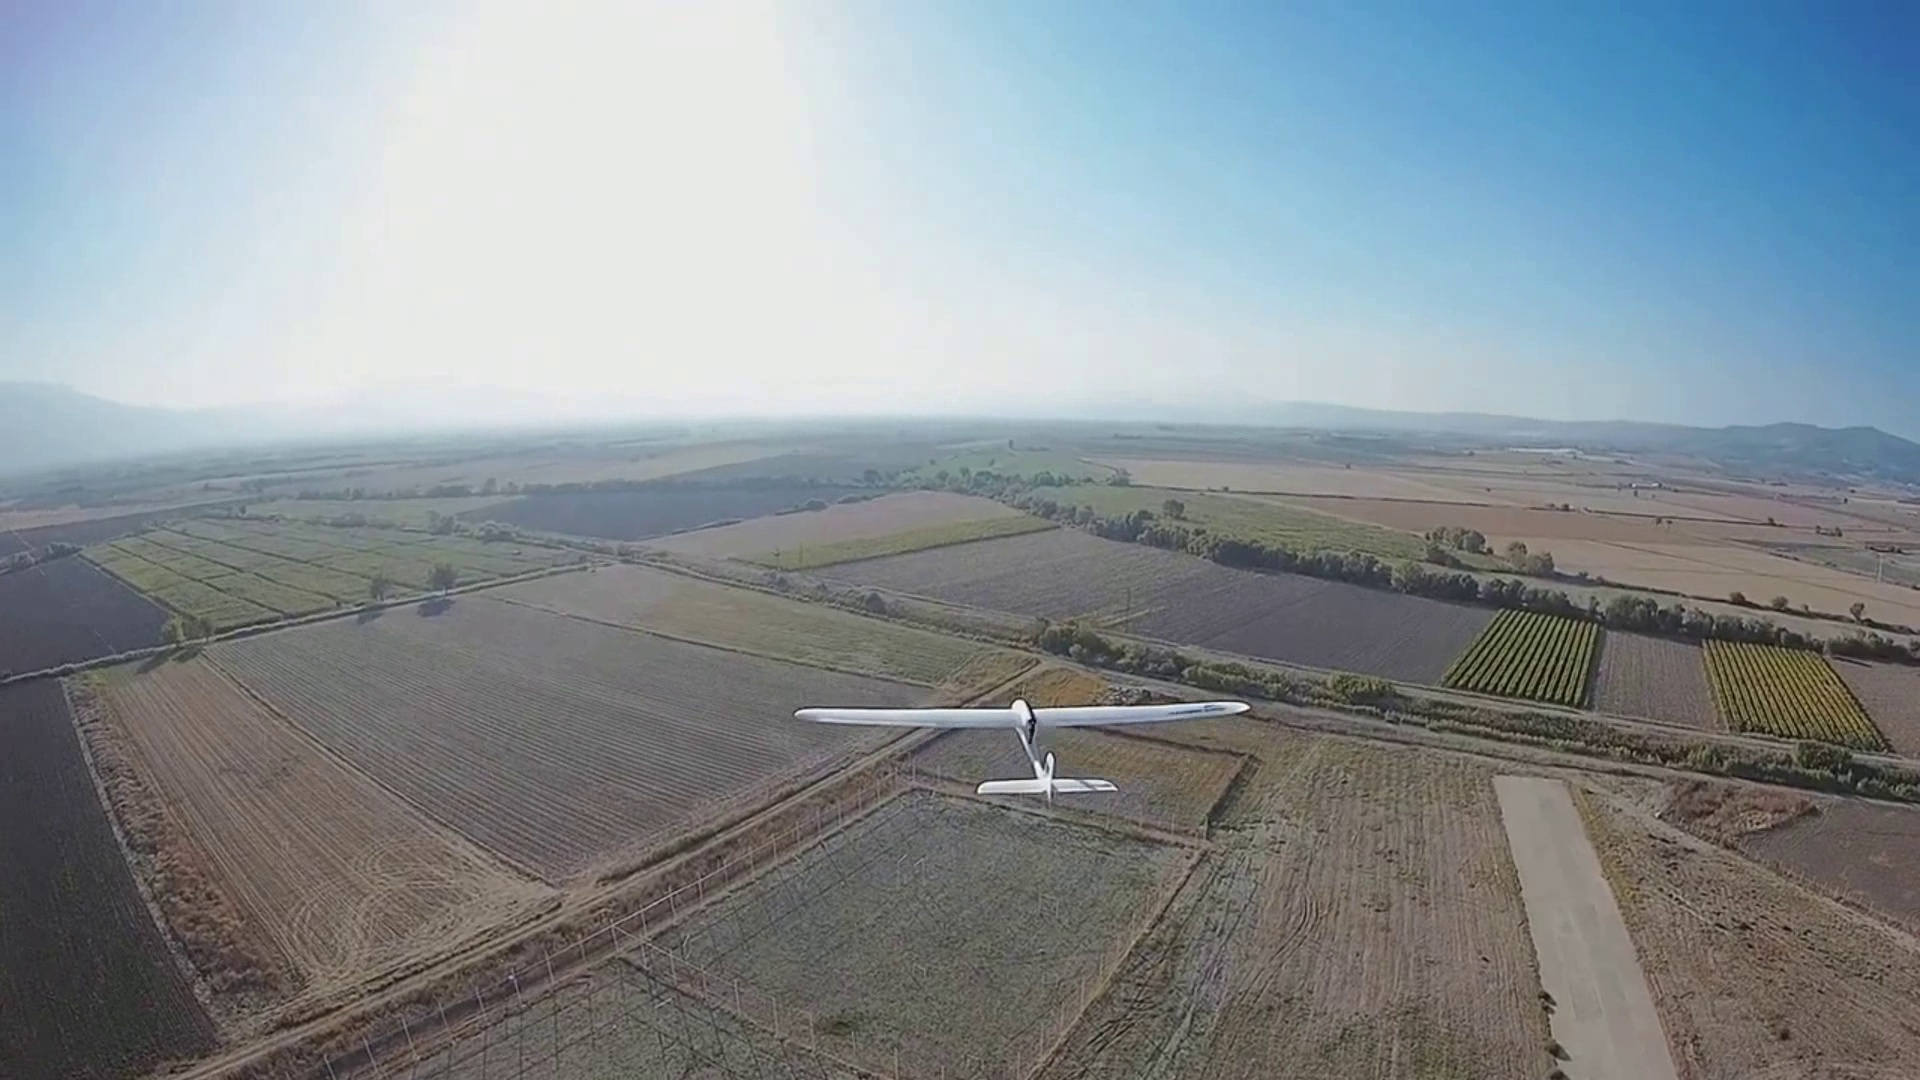airplane: (793, 687, 1254, 804)
